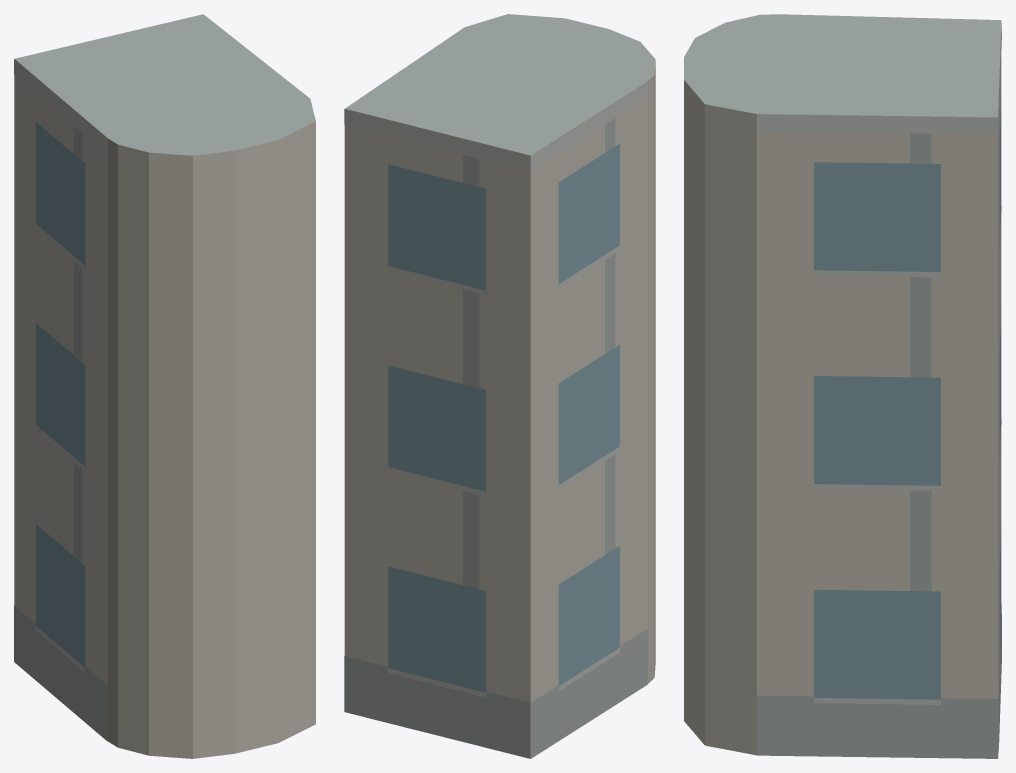
Rendered from survey-upis-32918908.glb.
The picture shows the model from 3 angles, left to right: view 1: azimuth 30°, elevation 25°; view 2: azimuth 150°, elevation 25°; view 3: azimuth 270°, elevation 25°; orthographic projection. The views are drawn at different scales.
Parts seen in each view (by area): view 1: survey-upis-32918908.tmp; view 2: survey-upis-32918908.tmp; view 3: survey-upis-32918908.tmp.
Part boxes in pixels (bbox=[...]): survey-upis-32918908.tmp: bbox=[14, 14, 315, 758]; survey-upis-32918908.tmp: bbox=[344, 14, 655, 758]; survey-upis-32918908.tmp: bbox=[684, 14, 1001, 758].
Bounding box in the file's own units: 3.17 × 9.15 × 4.11.
